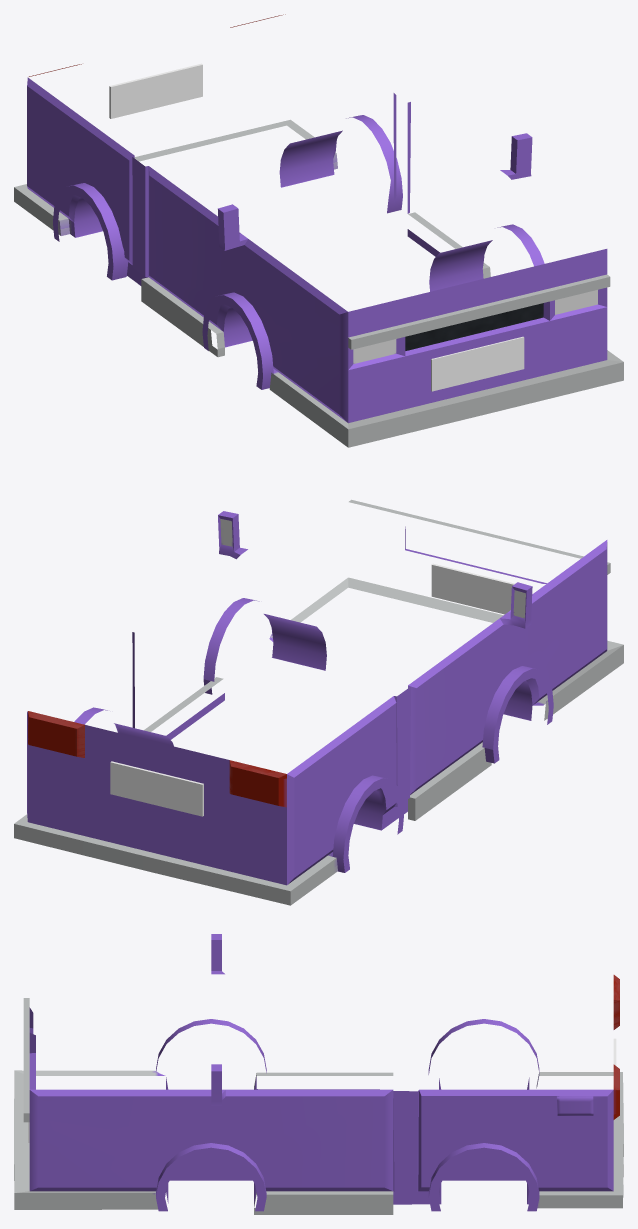
The model's file is BOXY-BOTTOM-pkgI24bi.glb.
The picture shows the model from 3 angles, top to bottom: view 1: azimuth 30°, elevation 25°; view 2: azimuth 150°, elevation 25°; view 3: azimuth 270°, elevation 25°; orthographic projection. The views are drawn at different scales.
Bounding box in the file's own units: 1.79 × 0.9221 × 3.36.
2 materials, 2 textured.
